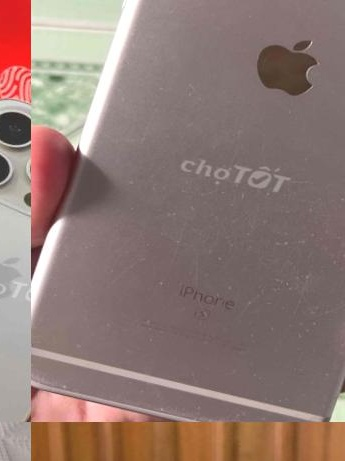scratch: (100, 178, 345, 346), (153, 364, 334, 422), (31, 340, 96, 403), (326, 136, 345, 259)
